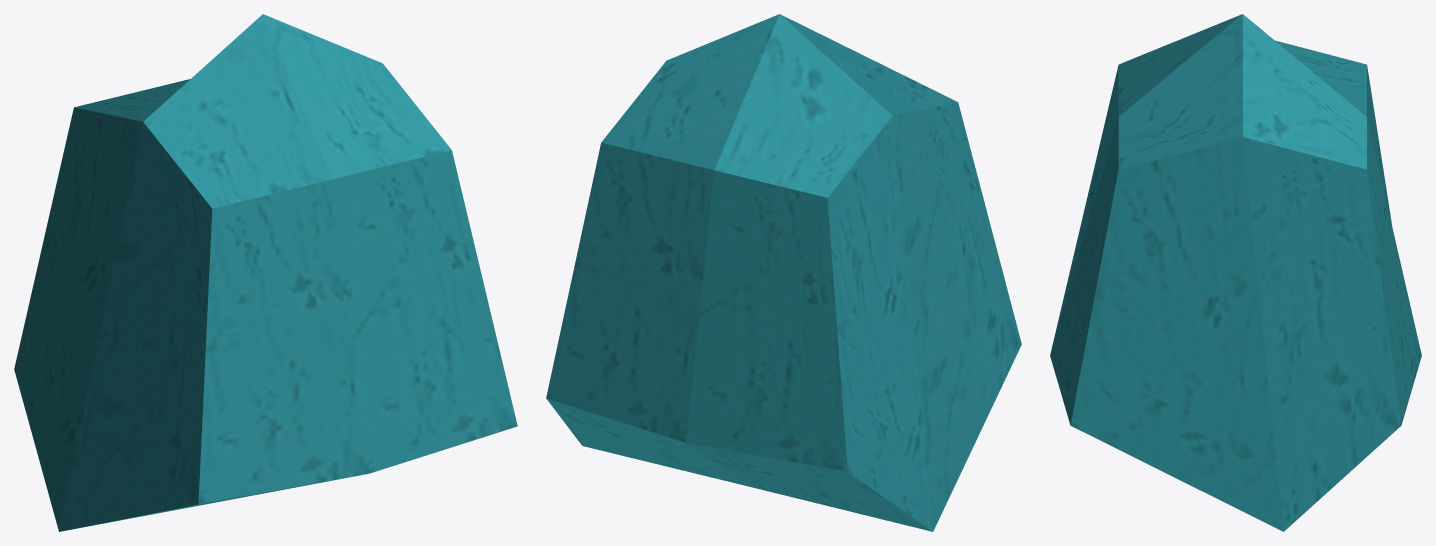
Rendered from MKU_trash_bag_single_blue_fin.fbx.
The picture shows the model from 3 angles, left to right: view 1: azimuth 30°, elevation 25°; view 2: azimuth 150°, elevation 25°; view 3: azimuth 270°, elevation 25°; orthographic projection. The views are drawn at different scales.
Parts seen in each view (by area): view 1: Cube; view 2: Cube; view 3: Cube.
Part boxes in pixels (x1,y1,x2,y2): Cube: (14,14,517,531); Cube: (546,14,1021,531); Cube: (1050,14,1421,531).
Bounding box in the file's own units: 244 × 308 × 237.
